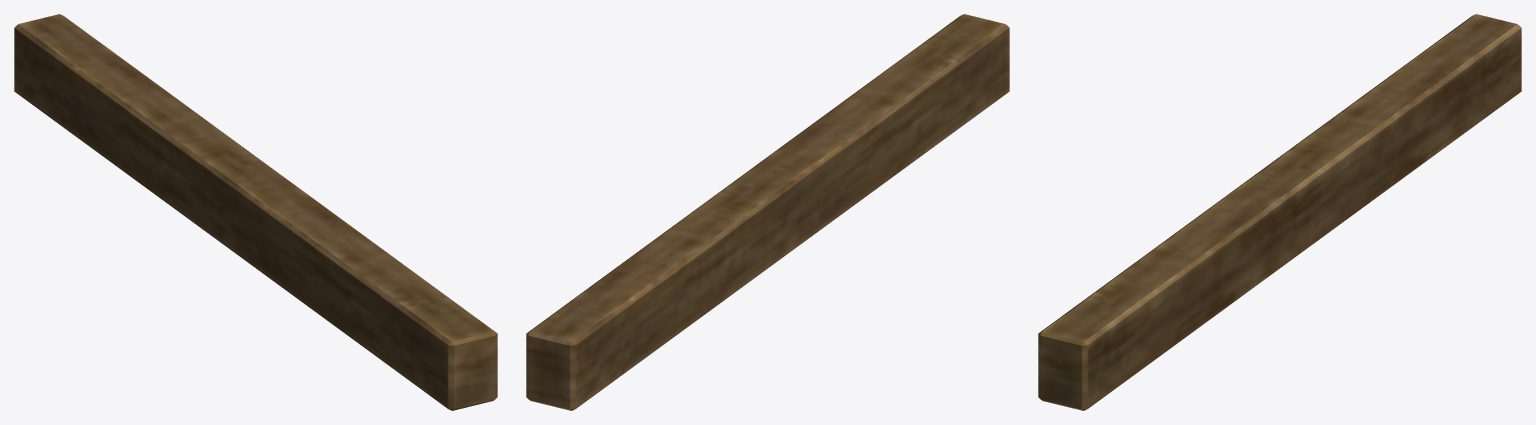
Rendered from SM_Wood_D.glb.
The picture shows the model from 3 angles, left to right: view 1: azimuth 30°, elevation 25°; view 2: azimuth 150°, elevation 25°; view 3: azimuth 330°, elevation 25°; orthographic projection.
Visible parts, largest first — view 1: SM_Wood_D; view 2: SM_Wood_D; view 3: SM_Wood_D.
Boxes of the visible parts, left/top/right/bottom form: SM_Wood_D: left=14, top=14, right=497, bottom=410; SM_Wood_D: left=526, top=14, right=1009, bottom=410; SM_Wood_D: left=1038, top=14, right=1521, bottom=410.
Bounding box in the file's own units: 0.1311 × 0.1759 × 2.01.
1 material, 1 textured.
